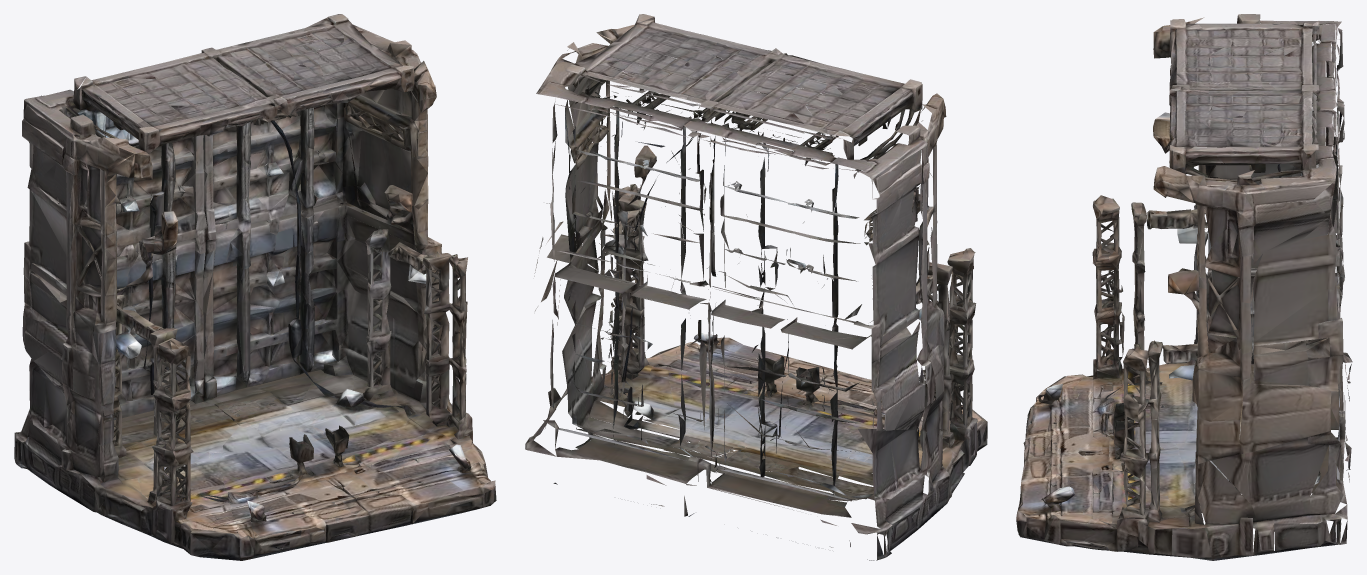
File: hangar_mech_bay.glb
3 renders of one model, left to right at view 1: azimuth 30°, elevation 25°; view 2: azimuth 150°, elevation 25°; view 3: azimuth 270°, elevation 25°, orthographic. The views are drawn at different scales.
Parts seen in each view (by area): view 1: hangar_mech_bay; view 2: hangar_mech_bay; view 3: hangar_mech_bay.
Part boxes in pixels (<box>): hangar_mech_bay: <box>14,14,496,560</box>; hangar_mech_bay: <box>525,14,987,560</box>; hangar_mech_bay: <box>1016,14,1352,560</box>.
Size of the model in its own units: 0.9749 by 0.9765 by 0.7666.
1 material, 1 textured.
